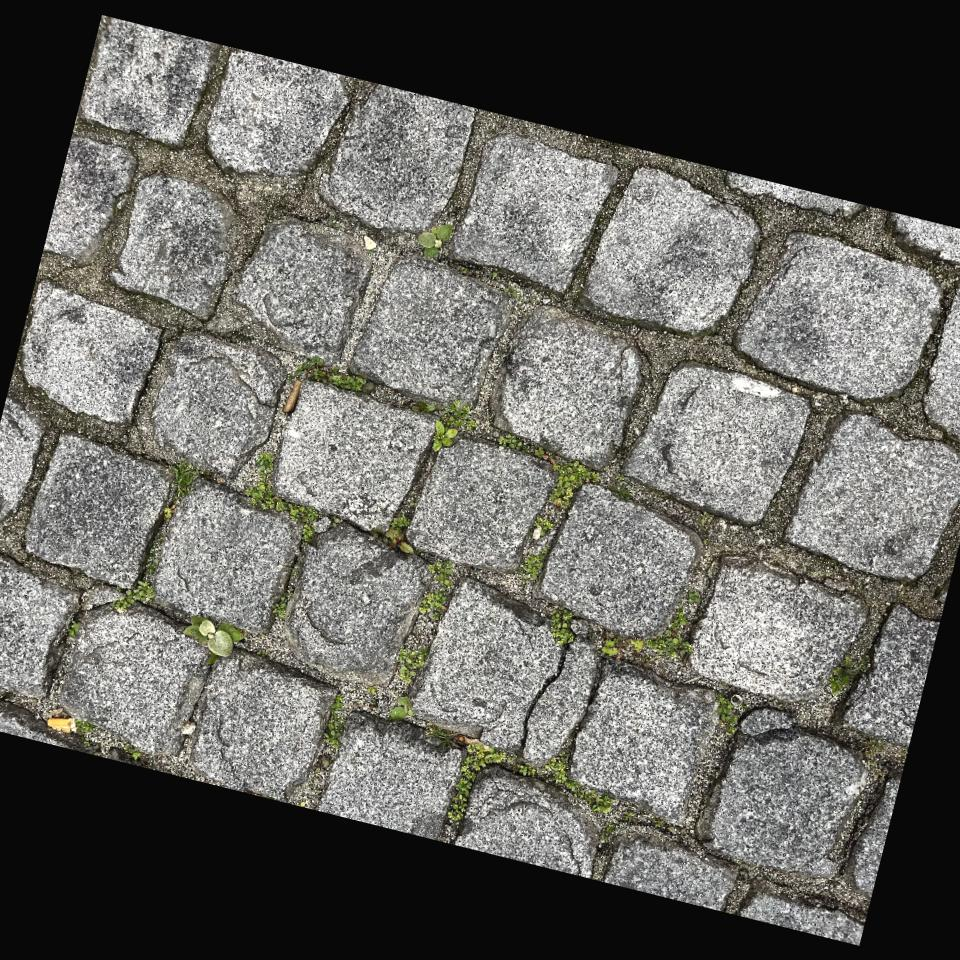weed: (244, 453, 328, 542), (602, 603, 691, 662), (534, 751, 614, 813), (447, 745, 507, 821), (290, 357, 372, 391), (183, 616, 241, 664), (124, 531, 163, 601), (161, 461, 204, 522), (516, 515, 554, 579), (548, 461, 598, 508), (419, 560, 452, 621), (433, 400, 469, 451), (498, 434, 555, 466), (323, 692, 351, 752), (829, 655, 866, 695), (417, 224, 452, 258), (398, 647, 428, 684), (716, 694, 743, 735), (551, 608, 574, 644), (389, 696, 413, 720), (466, 419, 477, 429)
